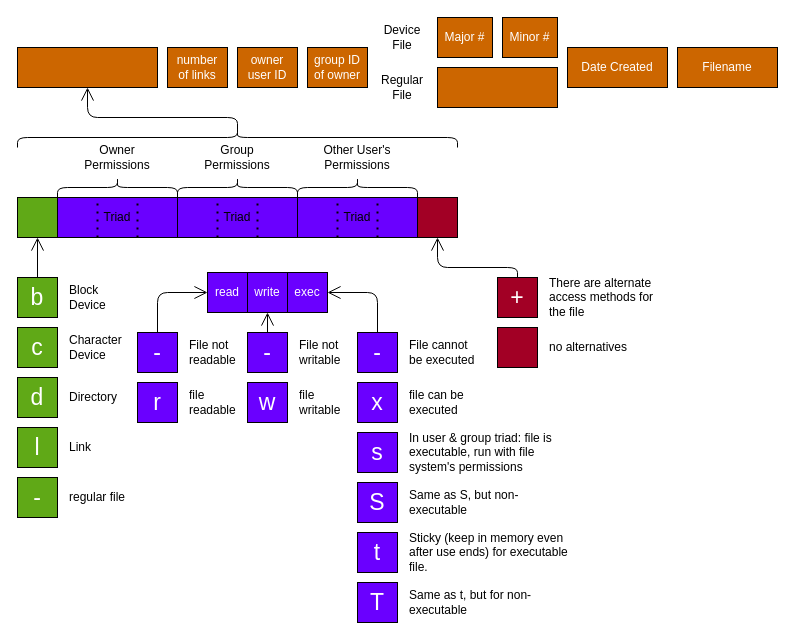
Image size: 795x640. Some labels were removed from this diagram. Each missing label, with the centre of its shape:
"Device" goes at [37,217].
"File size" goes at [497,87].
"more access" goes at [437,217].
"permissions" goes at [87,67].
